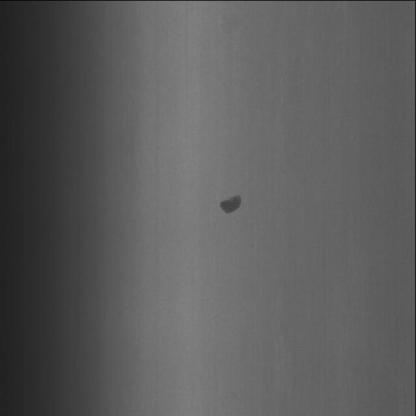oil_spot: (216, 186, 244, 225)
